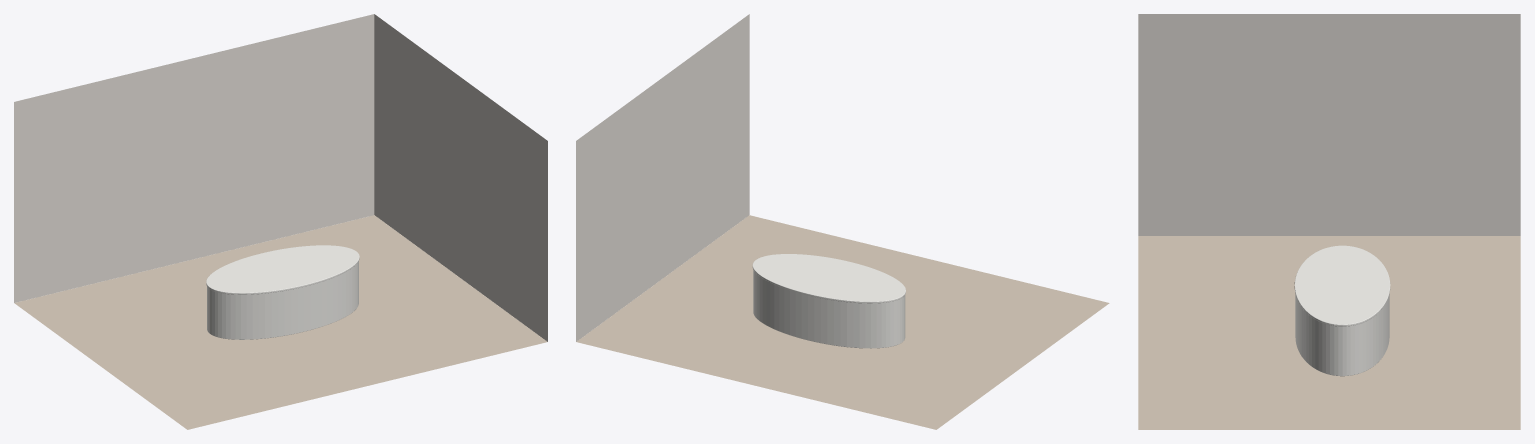
File: mesa-ovalada.glb
The picture shows the model from 3 angles, left to right: view 1: azimuth 30°, elevation 25°; view 2: azimuth 150°, elevation 25°; view 3: azimuth 270°, elevation 25°; orthographic projection. The views are drawn at different scales.
Visible parts, largest first — view 1: sala, decoracion; view 2: sala, decoracion; view 3: sala, decoracion.
Boxes of the visible parts, bbox=[...] form: sala: bbox=[14, 14, 547, 429]; decoracion: bbox=[206, 245, 359, 339]; sala: bbox=[576, 14, 1109, 429]; decoracion: bbox=[752, 254, 905, 348]; sala: bbox=[1138, 14, 1520, 429]; decoracion: bbox=[1294, 245, 1390, 376].
Size of the model in its own units: 6 by 3.2 by 5.
